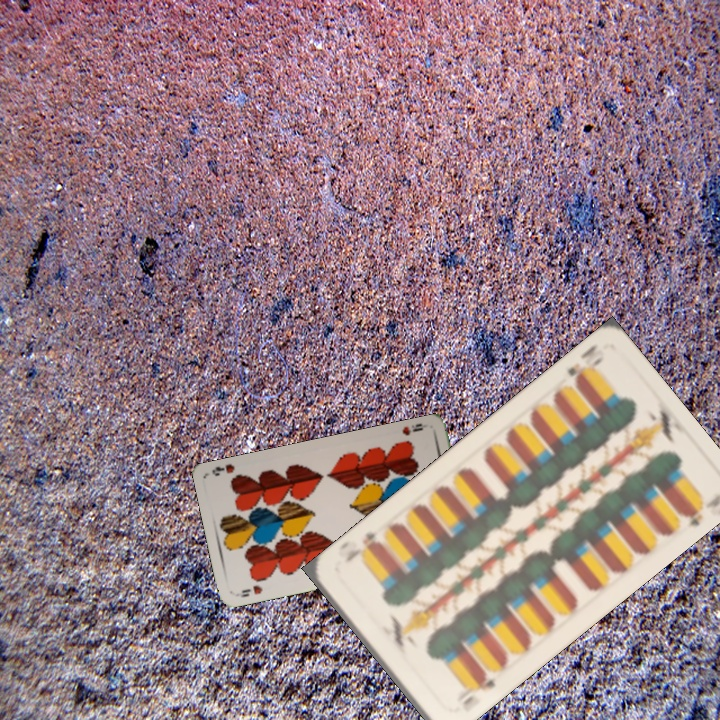E10: (563, 339, 607, 389), (453, 668, 498, 708)
H9: (237, 581, 265, 600), (398, 419, 425, 438)
